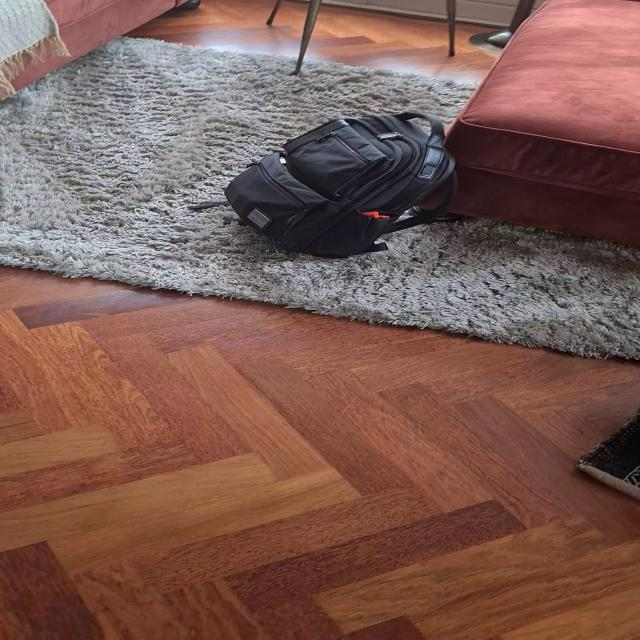backpack: (217, 107, 470, 262)
